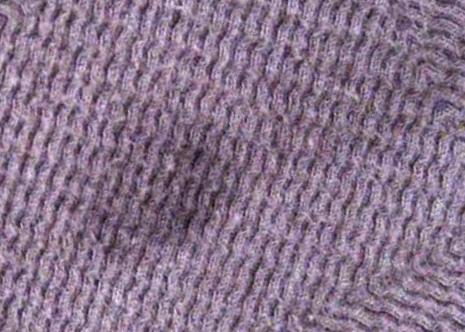stain: (86, 125, 237, 266)
